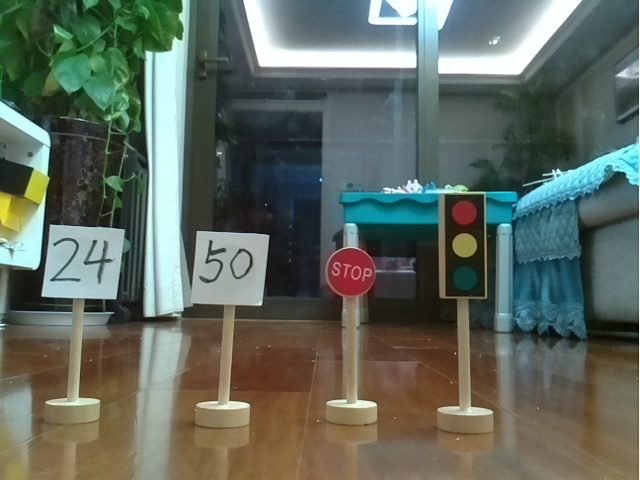Red Traffic Light: (434, 189, 498, 438)
Speed Limit 24: (44, 218, 128, 428)
Speed Limit 50: (184, 222, 278, 437)
Stop Sign: (321, 241, 387, 433)
